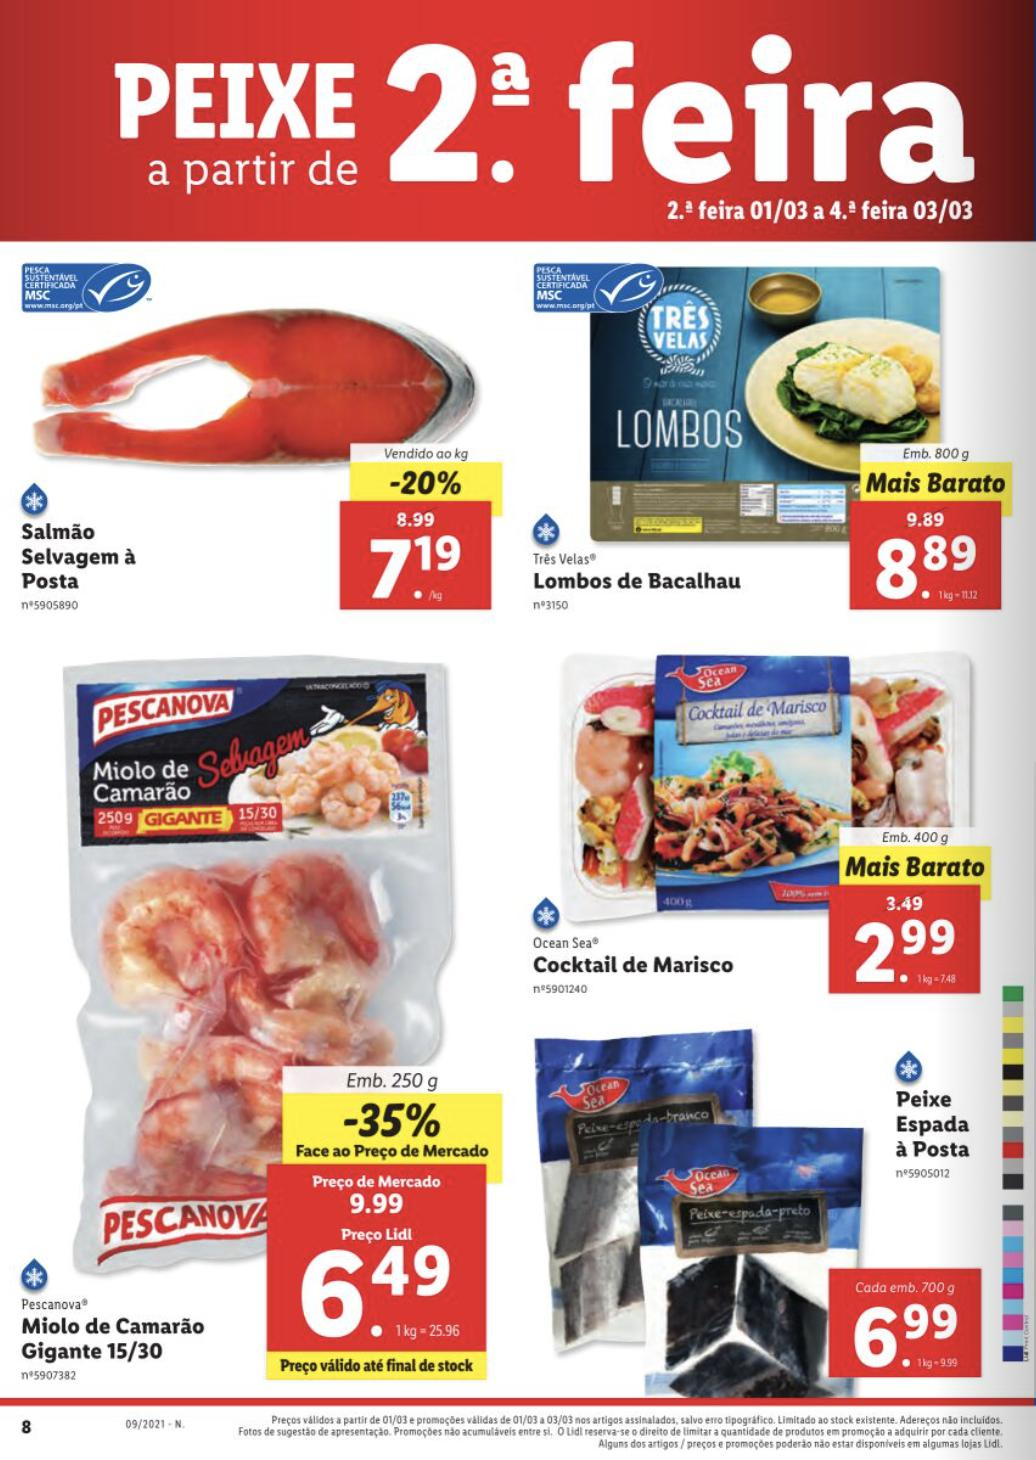name: (18, 1311, 209, 1364), (12, 518, 145, 589), (888, 1084, 975, 1164), (530, 951, 743, 982), (534, 571, 747, 598)
price: (296, 1242, 457, 1351), (845, 1296, 965, 1373), (868, 532, 981, 607), (367, 532, 470, 611), (854, 918, 959, 991)
product: (10, 654, 499, 1389), (7, 249, 514, 638), (521, 247, 1021, 632), (519, 1004, 998, 1396), (519, 632, 1021, 1005)
promotion: (339, 1098, 445, 1144), (388, 465, 465, 500)
